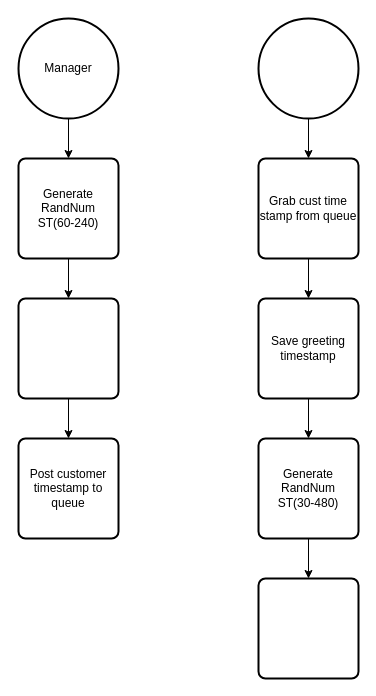
Image size: 376x696. Some labels were removed from this diagram. The centre of each missing label's shape, as x and y in pixels:
Delay Until (randNum +: point (308, 628)
Delay Until (randNum + last customer entr.): point (68, 348)
Tellers: point (308, 68)
